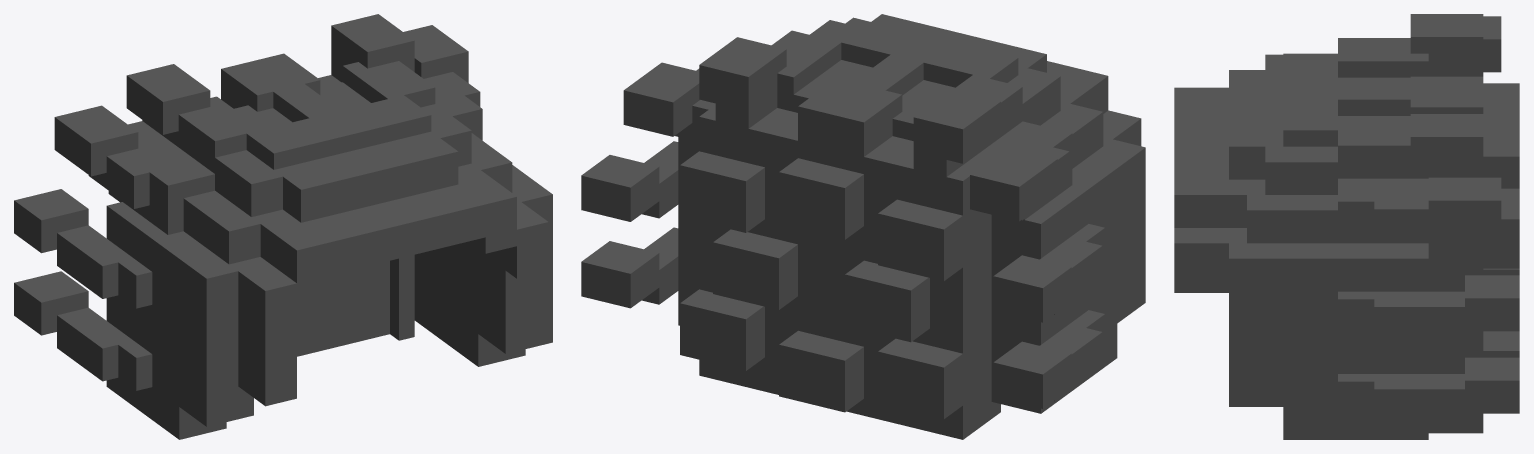
The picture shows the model from 3 angles, left to right: view 1: azimuth 30°, elevation 25°; view 2: azimuth 150°, elevation 25°; view 3: azimuth 270°, elevation 25°; orthographic projection. The views are drawn at different scales.
Visible parts, largest first — view 1: 30; view 2: 30; view 3: 30.
Part boxes in pixels (box(x1,y1,x2,y2)): 30: box(14, 14, 552, 439); 30: box(581, 14, 1145, 439); 30: box(1174, 14, 1519, 439).
Size of the model in its own units: 2.8 by 1.8 by 1.9.
Materials: 1 (1 with a texture image).
